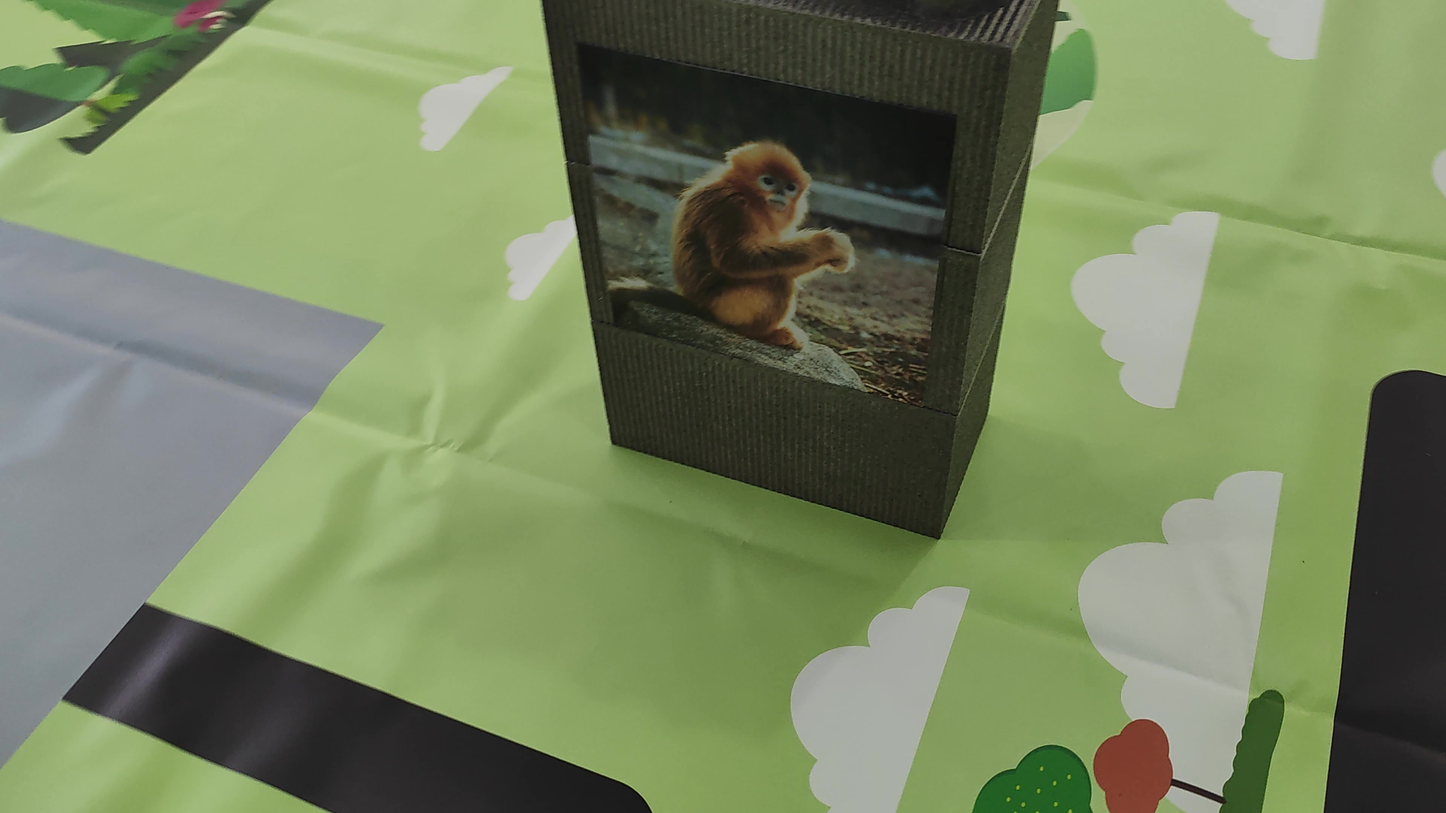monkey: (629, 104, 891, 364)
